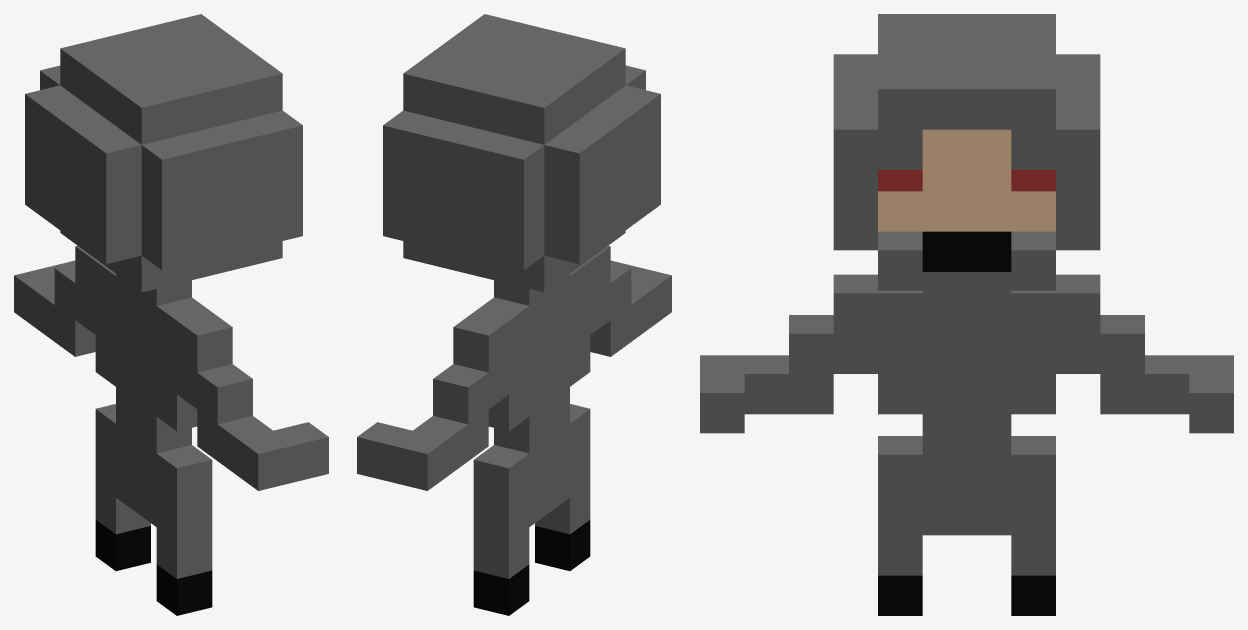
Rendered from playerModel.gltf.
3 views of the same model, side by side, from view 1: azimuth 30°, elevation 25°; view 2: azimuth 150°, elevation 25°; view 3: azimuth 270°, elevation 25° (orthographic). The views are drawn at different scales.
Parts seen in each view (by area): view 1: Layer.1; view 2: Layer.1; view 3: Layer.1.
Part boxes in pixels (x1,y1,x2,y2): Layer.1: [14, 14, 328, 615]; Layer.1: [357, 14, 671, 615]; Layer.1: [700, 14, 1233, 615].
Size of the model in its own units: 5 by 14 by 12.
1 material, 1 textured.
